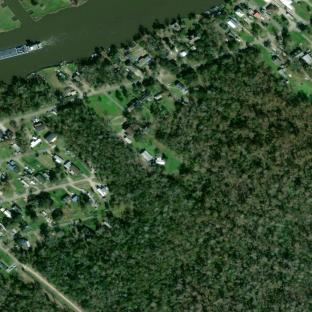Floresta: (18, 17, 312, 312), (0, 273, 69, 312), (0, 74, 56, 119), (78, 58, 120, 87)
